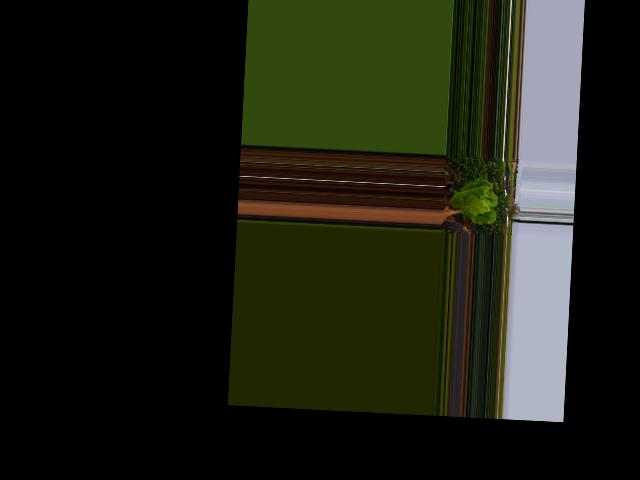lettuce: (445, 175, 499, 227)
